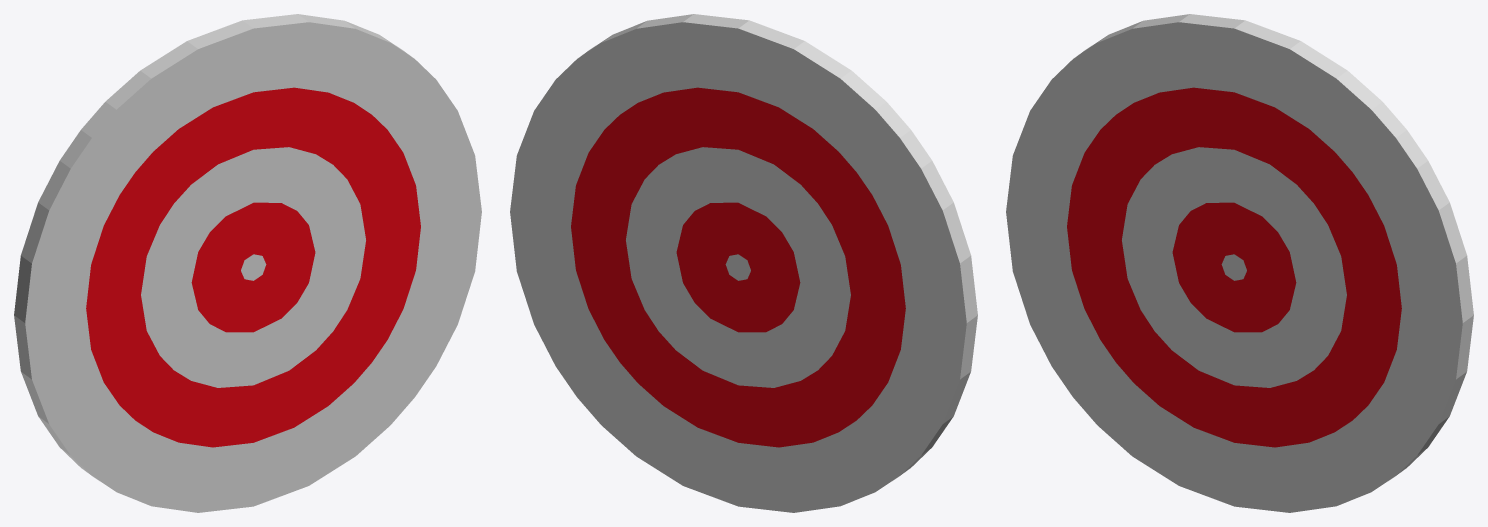
Rendered from Diana.fbx.
The picture shows the model from 3 angles, left to right: view 1: azimuth 30°, elevation 25°; view 2: azimuth 150°, elevation 25°; view 3: azimuth 330°, elevation 25°; orthographic projection.
Parts seen in each view (by area): view 1: Diana; view 2: Diana; view 3: Diana.
Part boxes in pixels (<box>): Diana: <box>14,14,481,512</box>; Diana: <box>510,14,977,512</box>; Diana: <box>1006,14,1473,512</box>.
Bounding box in the file's own units: 0.7741 × 0.7741 × 0.0328.
